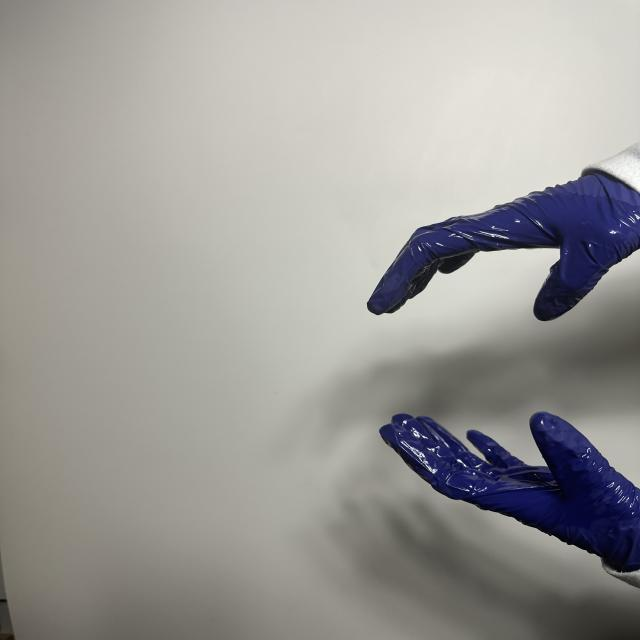gloves_contaminated: (380, 412, 640, 578), (368, 173, 640, 321)
